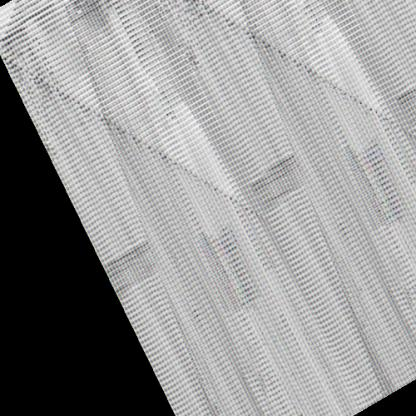Damage: (242, 139, 321, 207)
